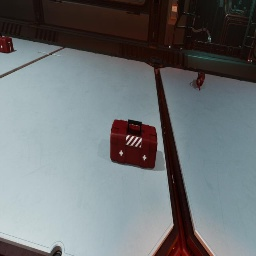FireExtinguisher ]: (196, 70, 205, 90)
FirstAidBox ,: (110, 119, 157, 168), (0, 32, 14, 53)
SafetySwitchPanel ,: (168, 0, 179, 25)
